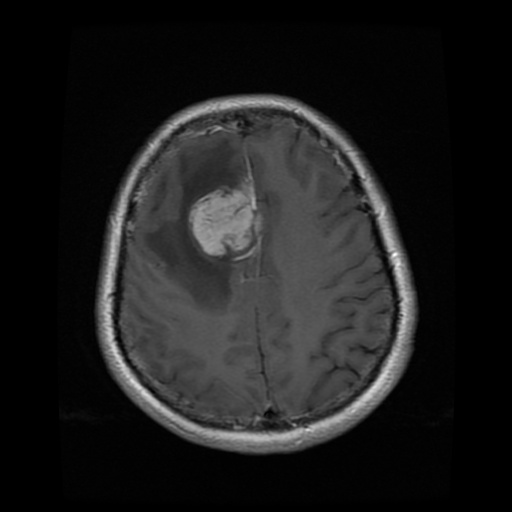meningioma: (145, 143, 260, 312)
